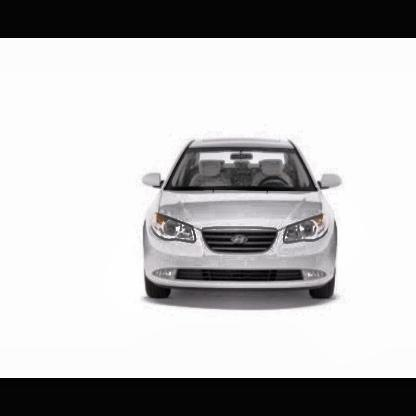Hyundai Elantra Sedan 2007: (143, 138, 344, 299)
